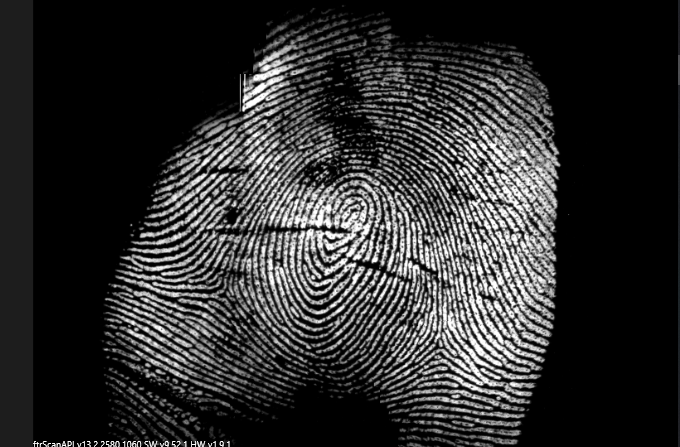nucelo: (338, 193, 363, 233)
verticilo: (422, 325, 458, 360), (209, 272, 234, 302)
